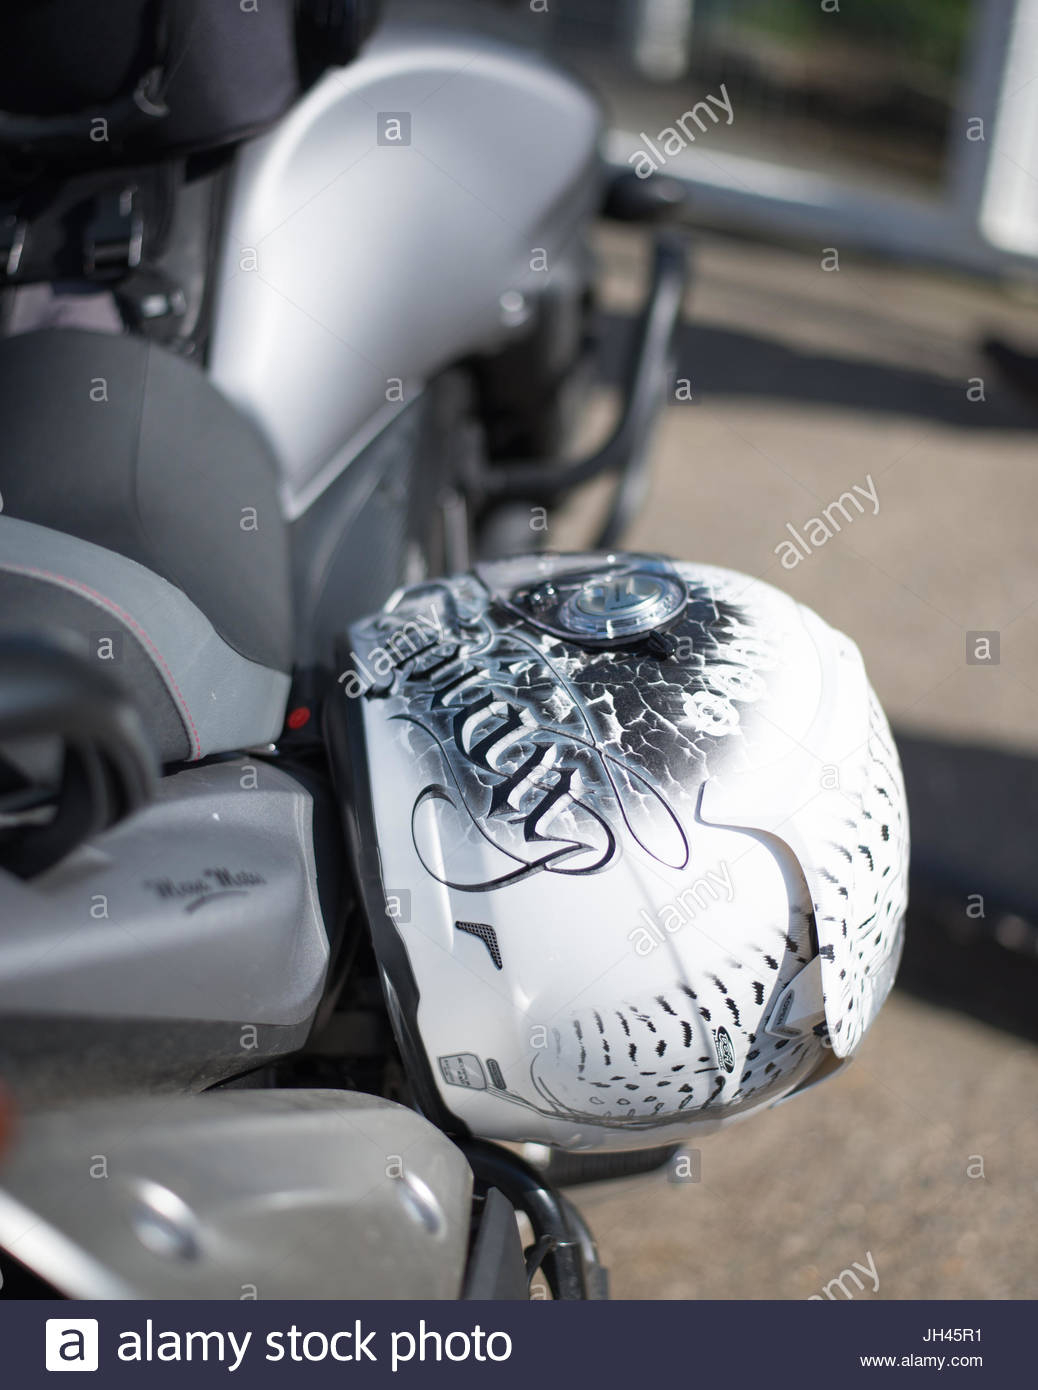with_helmet: (307, 547, 932, 1167)
